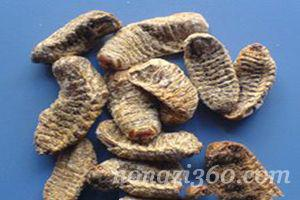grub: (185, 34, 243, 113)
